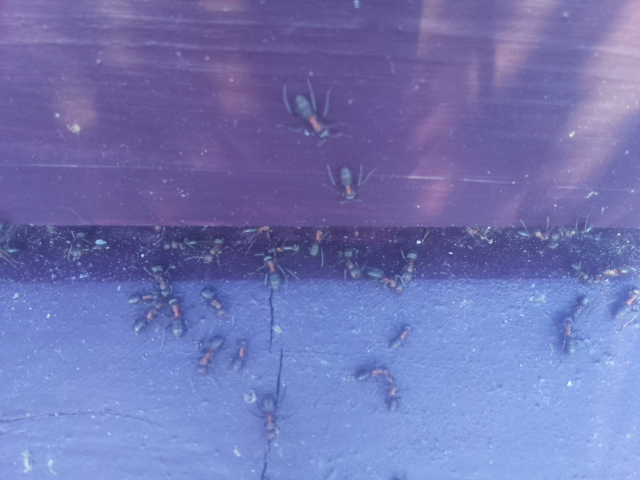ant: (279, 79, 342, 149), (356, 254, 419, 301), (554, 302, 588, 359), (330, 156, 364, 212), (302, 219, 333, 263), (163, 296, 190, 343), (253, 393, 281, 437), (337, 240, 365, 284), (196, 282, 227, 319), (613, 283, 640, 325), (195, 231, 225, 268), (259, 250, 284, 291), (198, 332, 221, 374)
